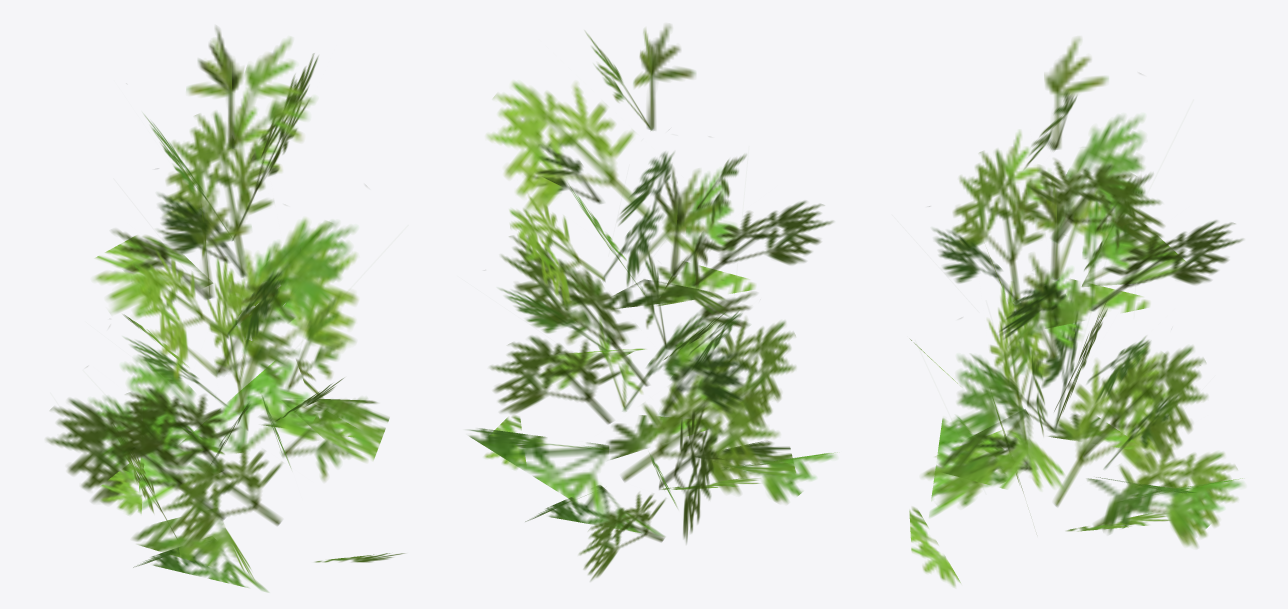
Rendered from bamboo-clump.lod1.glb.
The picture shows the model from 3 angles, left to right: view 1: azimuth 30°, elevation 25°; view 2: azimuth 150°, elevation 25°; view 3: azimuth 270°, elevation 25°; orthographic projection. The views are drawn at different scales.
Visible parts, largest first — view 1: Object_2; view 2: Object_2; view 3: Object_2.
Part boxes in pixels (x1,y1,x2,y2): Object_2: (46,27,404,592); Object_2: (469,25,837,581); Object_2: (909,37,1243,586).
Bounding box in the file's own units: 2.76 × 4.46 × 2.78.
1 material, 1 textured.
